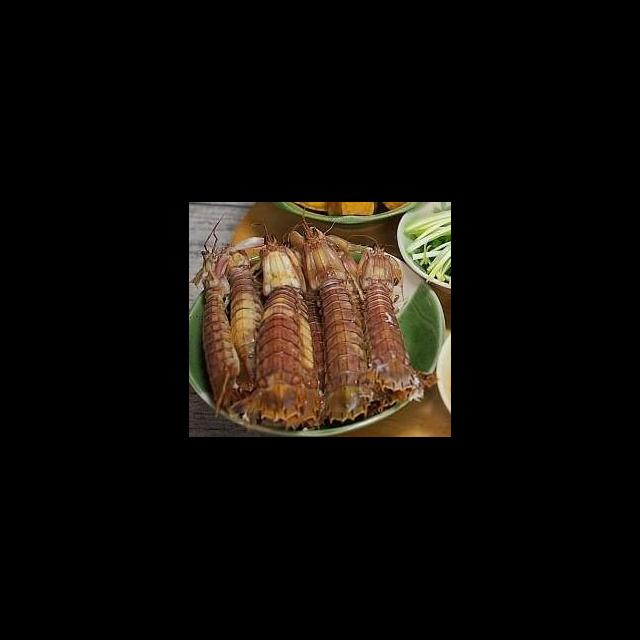tom tit: (296, 222, 378, 426), (252, 230, 311, 426), (191, 233, 248, 422), (355, 240, 423, 394), (221, 248, 269, 396)
